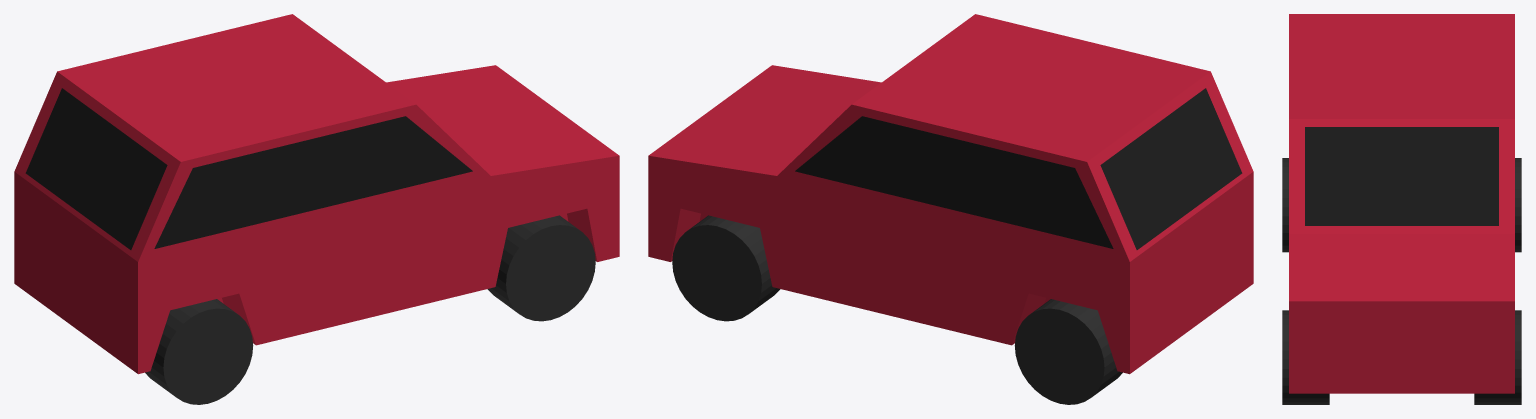
The model's file is carred.glb.
3 views of the same model, side by side, from view 1: azimuth 30°, elevation 25°; view 2: azimuth 150°, elevation 25°; view 3: azimuth 270°, elevation 25° (orthographic). The views are drawn at different scales.
Visible parts, largest first — view 1: car_red; view 2: car_red; view 3: car_red.
Boxes of the visible parts, x1=… form: car_red: x1=14, y1=14, x2=619, y2=404; car_red: x1=648, y1=14, x2=1253, y2=404; car_red: x1=1282, y1=14, x2=1521, y2=404.
Size of the model in its own units: 4.49 by 2.18 by 2.12.
